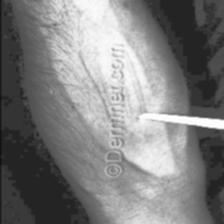Toxin: (75, 52, 123, 102)
